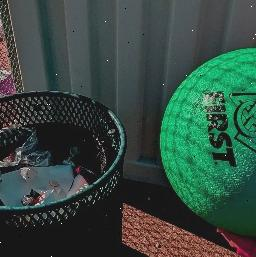algae: (158, 45, 256, 247)
